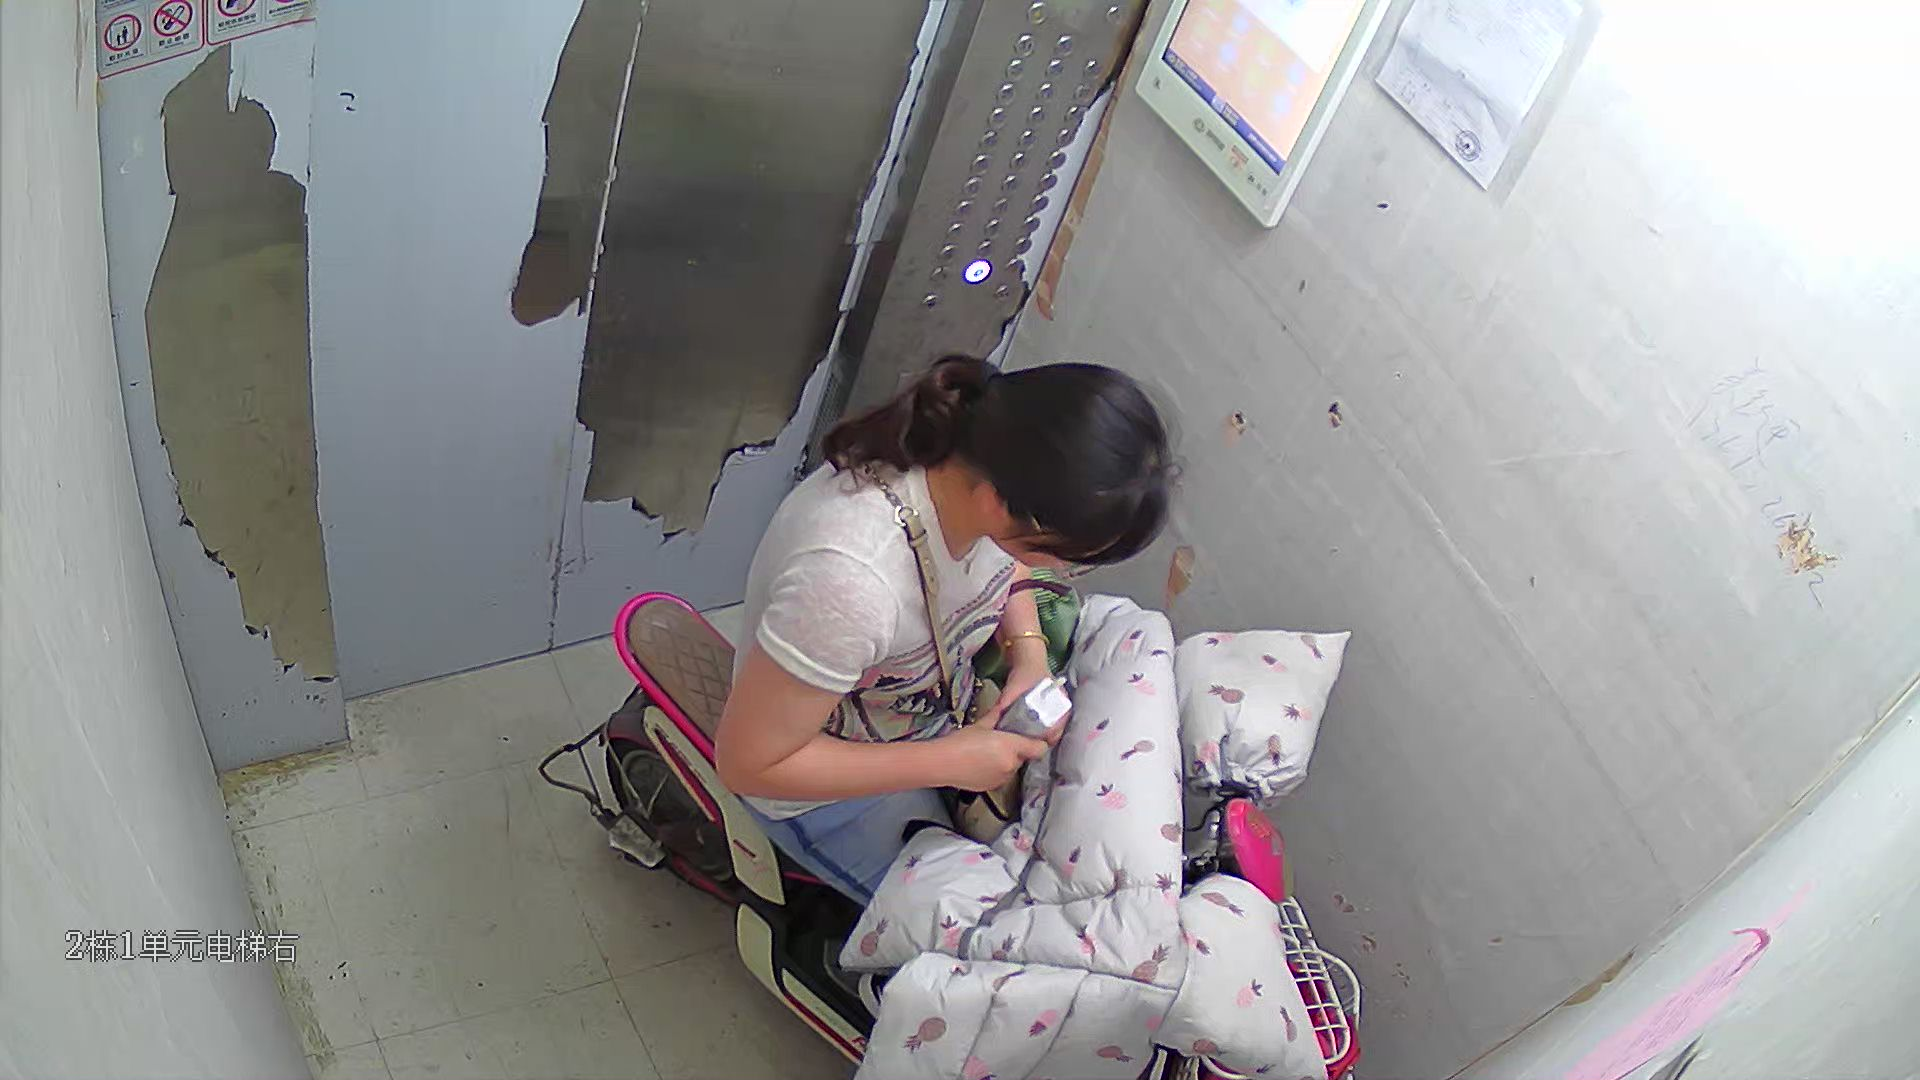Electric-bicycle: (539, 585, 1373, 1080)
